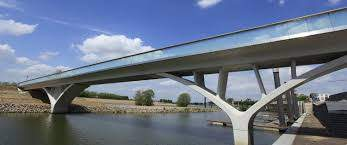bridge: (19, 6, 347, 92)
